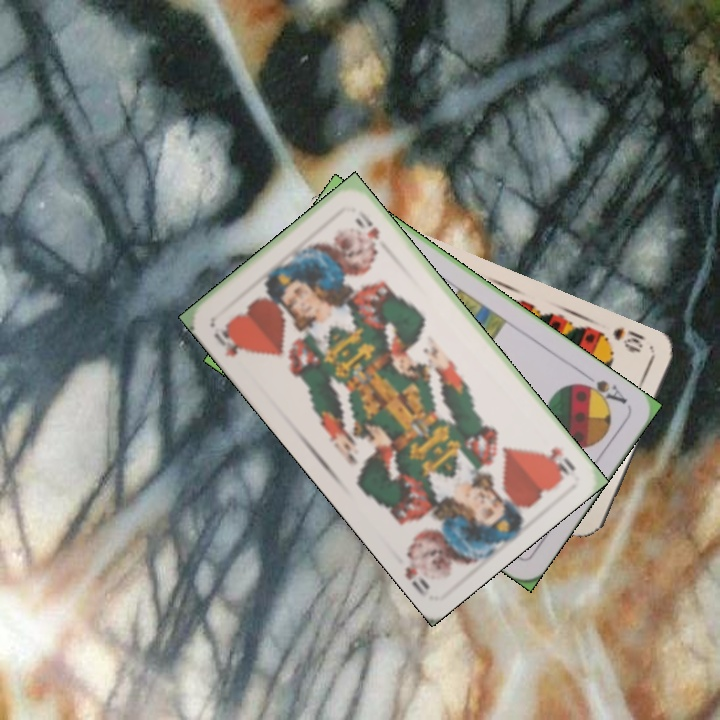HO: (209, 321, 251, 360), (538, 443, 578, 481)
S10: (608, 323, 647, 356)
SA: (573, 368, 630, 409)
